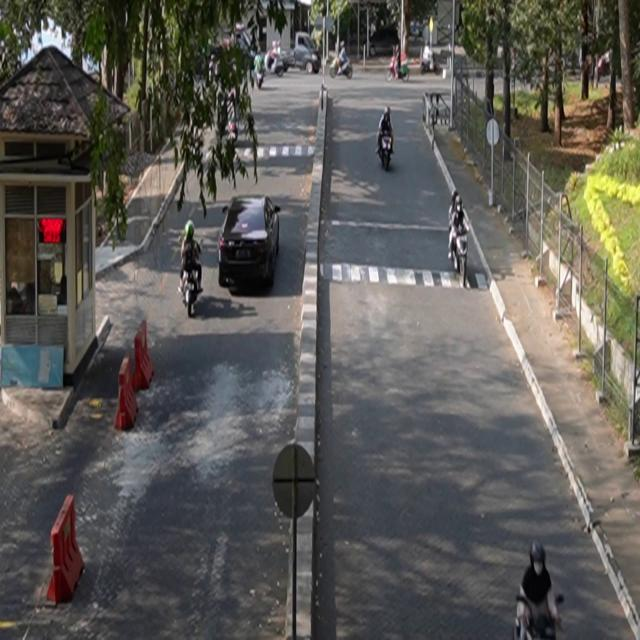car: (219, 195, 282, 289)
